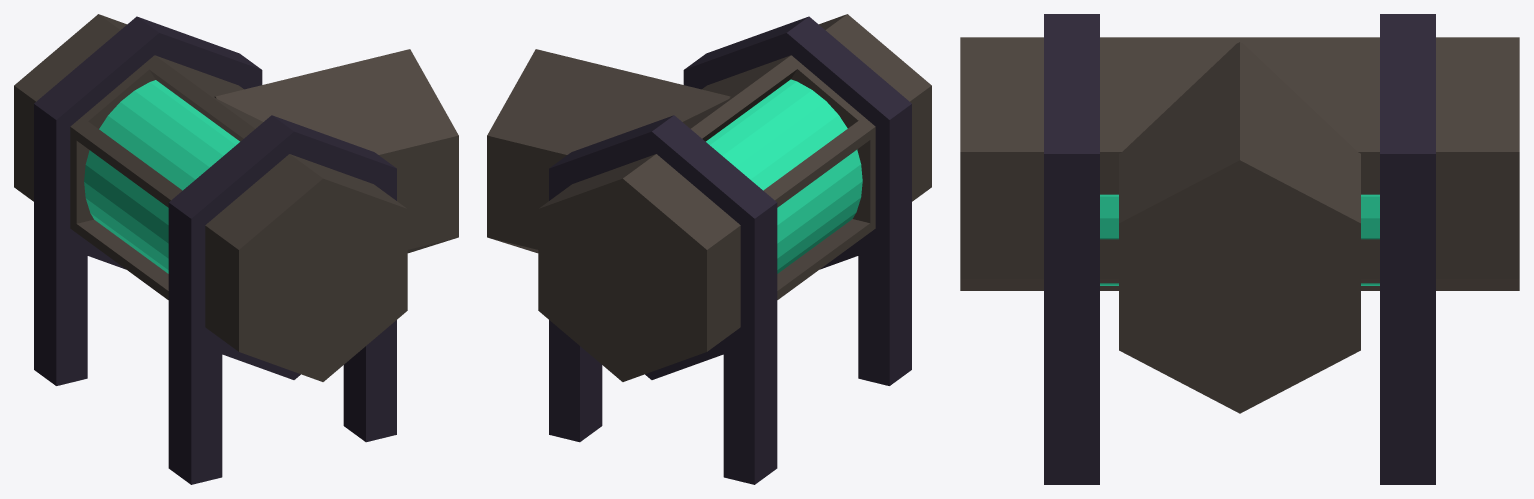
File: TPipe.fbx
3 views of the same model, side by side, from view 1: azimuth 30°, elevation 25°; view 2: azimuth 150°, elevation 25°; view 3: azimuth 270°, elevation 25° (orthographic). The views are drawn at different scales.
Parts seen in each view (by area): view 1: TPipe; view 2: TPipe; view 3: TPipe.
Boxes of the visible parts, x1,y1,x2,y2 form: TPipe: (14, 14, 458, 484); TPipe: (487, 14, 931, 484); TPipe: (960, 14, 1519, 484).
Bounding box in the file's own units: 76.43 × 80.56 × 100.
